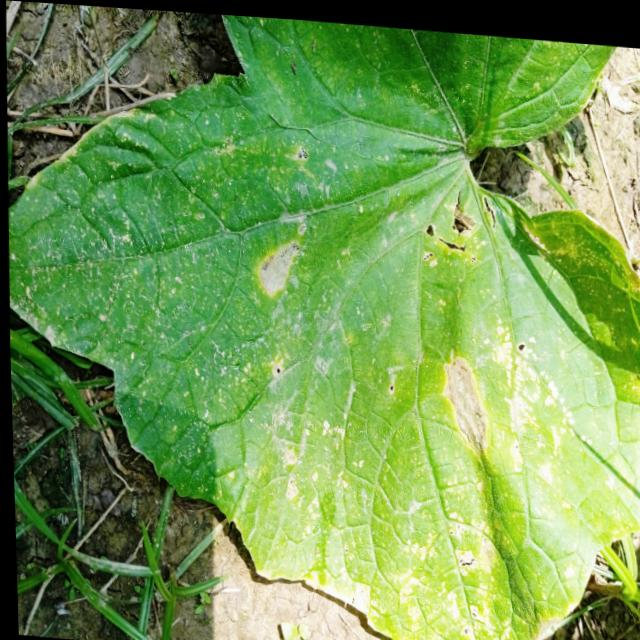Anthracnose: (416, 187, 501, 274)
